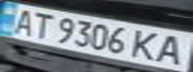0: (87, 21, 112, 52)
3: (69, 18, 93, 50)
6: (106, 25, 130, 56)
9: (51, 14, 78, 45)
A: (151, 33, 190, 66), (6, 6, 39, 36)
K: (127, 28, 163, 62)
T: (27, 10, 57, 40)
